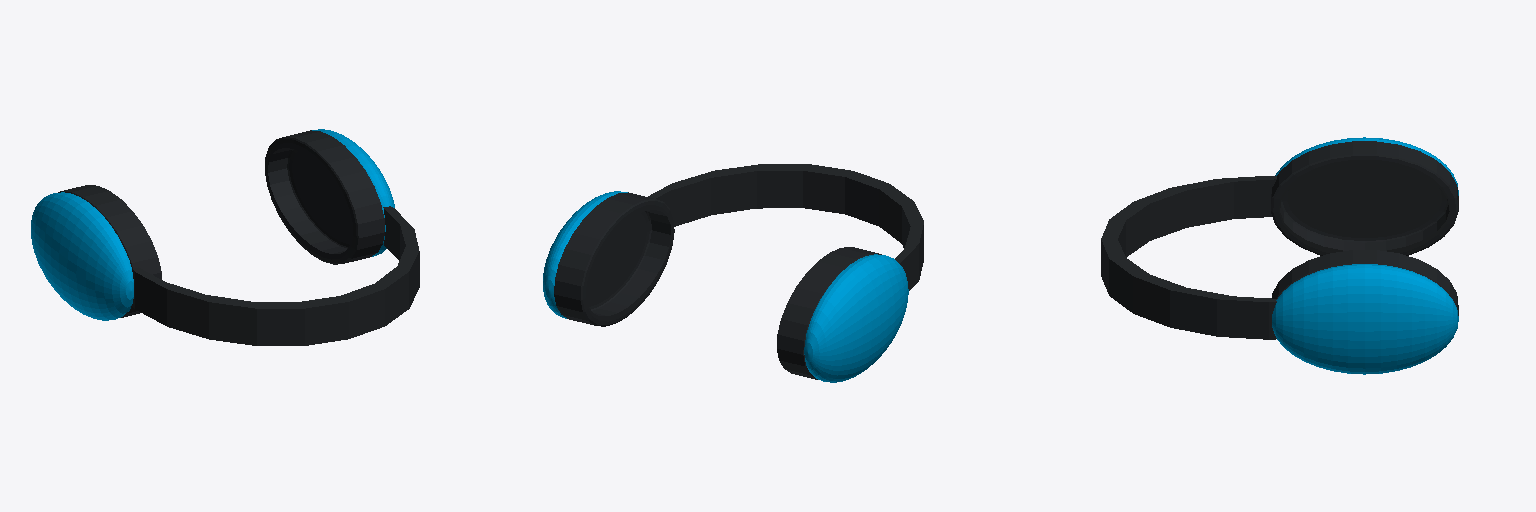
File: tinker.obj
3 views of the same model, side by side, from view 1: azimuth 30°, elevation 25°; view 2: azimuth 150°, elevation 25°; view 3: azimuth 270°, elevation 25° (orthographic).
Visible parts, largest first — view 1: obj_0; view 2: obj_0; view 3: obj_0.
Boxes of the visible parts, <box> form: obj_0: <box>31,129,419,345</box>; obj_0: <box>543,164,923,382</box>; obj_0: <box>1101,137,1458,374</box>.
Bounding box in the file's own units: 12 × 4 × 12.